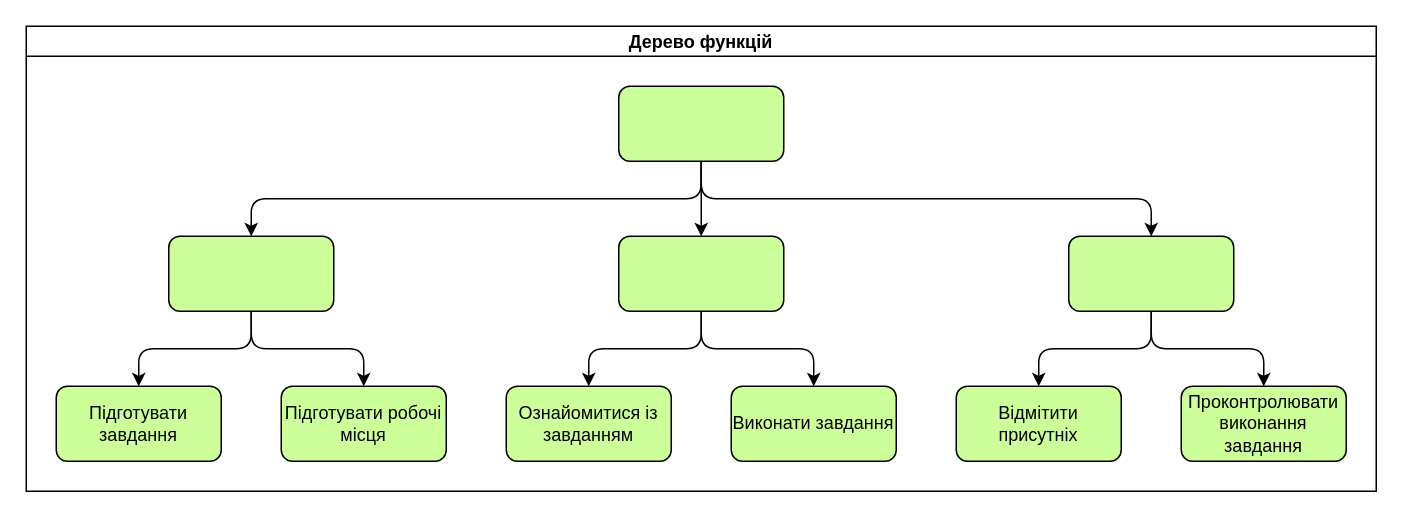
Image size: 1403x518. Some labels were removed from this diagram. Here are the shapes that lost their labels. From the top down, the box of each, then its label:
(617, 85, 784, 161): Виконати лабораторну роботу
(167, 235, 334, 311): Підготувати все необхідне
(617, 235, 784, 311): Виконати
(1067, 235, 1234, 311): Проконтролювати виконання
